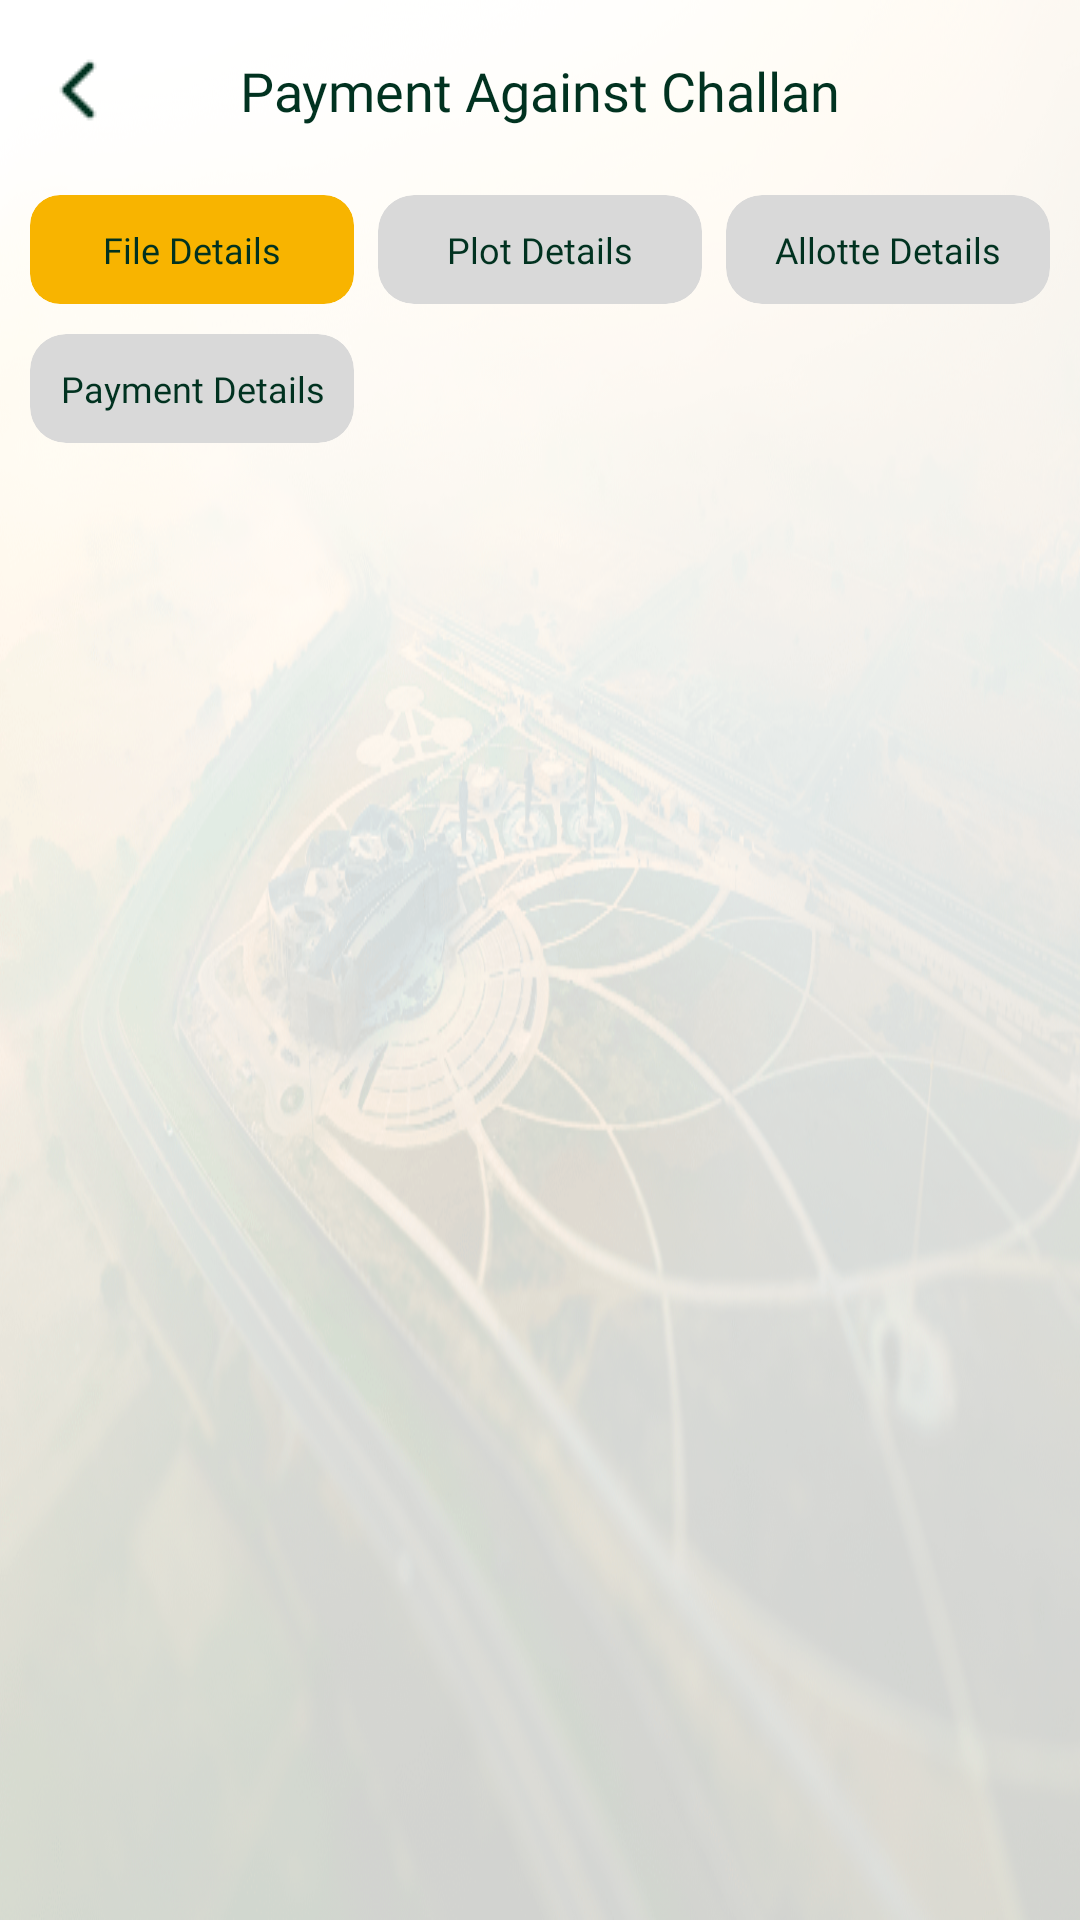

Point at icon controls on the screen. Image size 1080 × 1920, points as (x=x, y=y).
left: (x=78, y=90)
